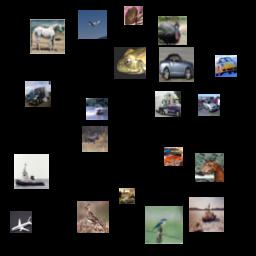airplane: (78, 10, 107, 39), (10, 211, 32, 233)
automobile: (159, 47, 194, 82), (215, 55, 237, 77), (198, 94, 220, 116), (164, 147, 183, 166), (119, 188, 135, 204)
bird: (145, 206, 183, 244), (77, 201, 109, 233), (158, 16, 187, 45)
deer: (82, 126, 108, 152)
frog: (114, 47, 146, 79), (124, 6, 143, 25)
ship: (14, 154, 49, 189), (189, 197, 224, 232), (86, 98, 108, 120)
truck: (155, 91, 181, 117), (25, 81, 51, 107)
